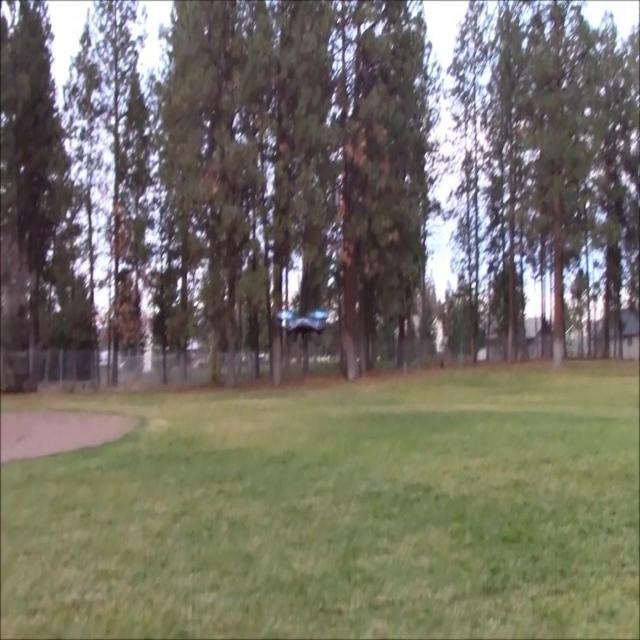UAV: (276, 310, 329, 334)
